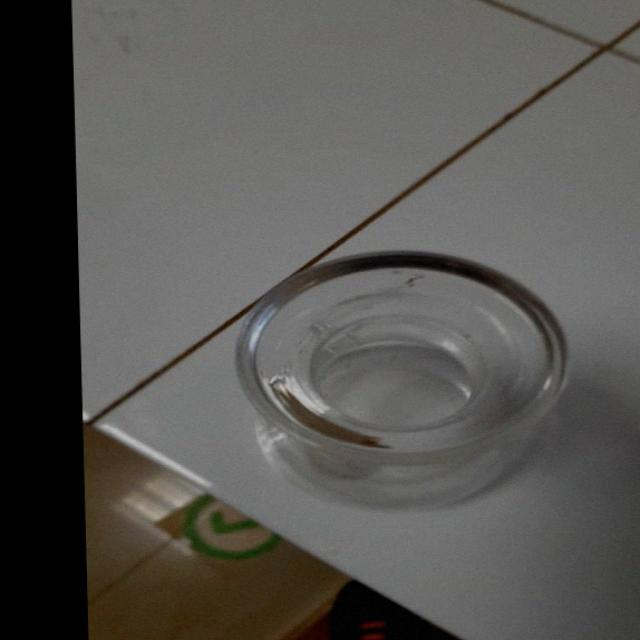Filtration Flask: (238, 230, 617, 485)
